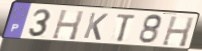3: (27, 8, 53, 38)
8: (137, 14, 163, 46)
H: (50, 8, 86, 42), (160, 15, 196, 48)
K: (82, 12, 110, 42)
T: (115, 13, 138, 43)
